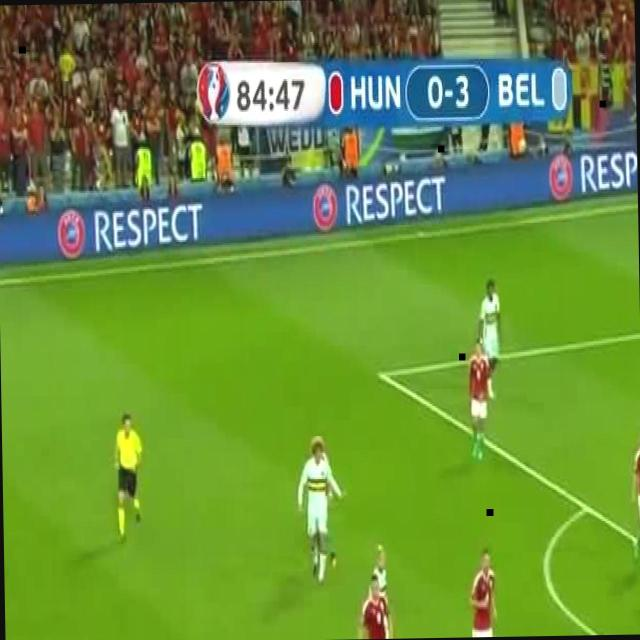player-white: (297, 438, 343, 586), (114, 413, 143, 542), (476, 278, 502, 398), (464, 545, 496, 637), (468, 339, 492, 461), (352, 574, 391, 640), (369, 543, 394, 639), (629, 428, 640, 564)
